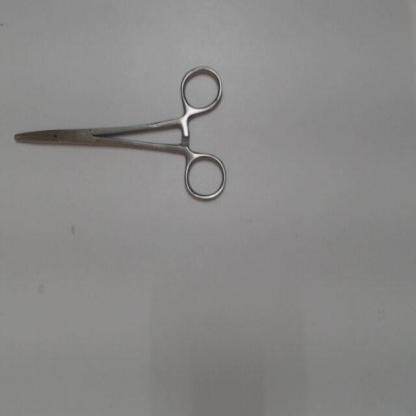Mayo Needle Holder: (1, 61, 234, 216)
